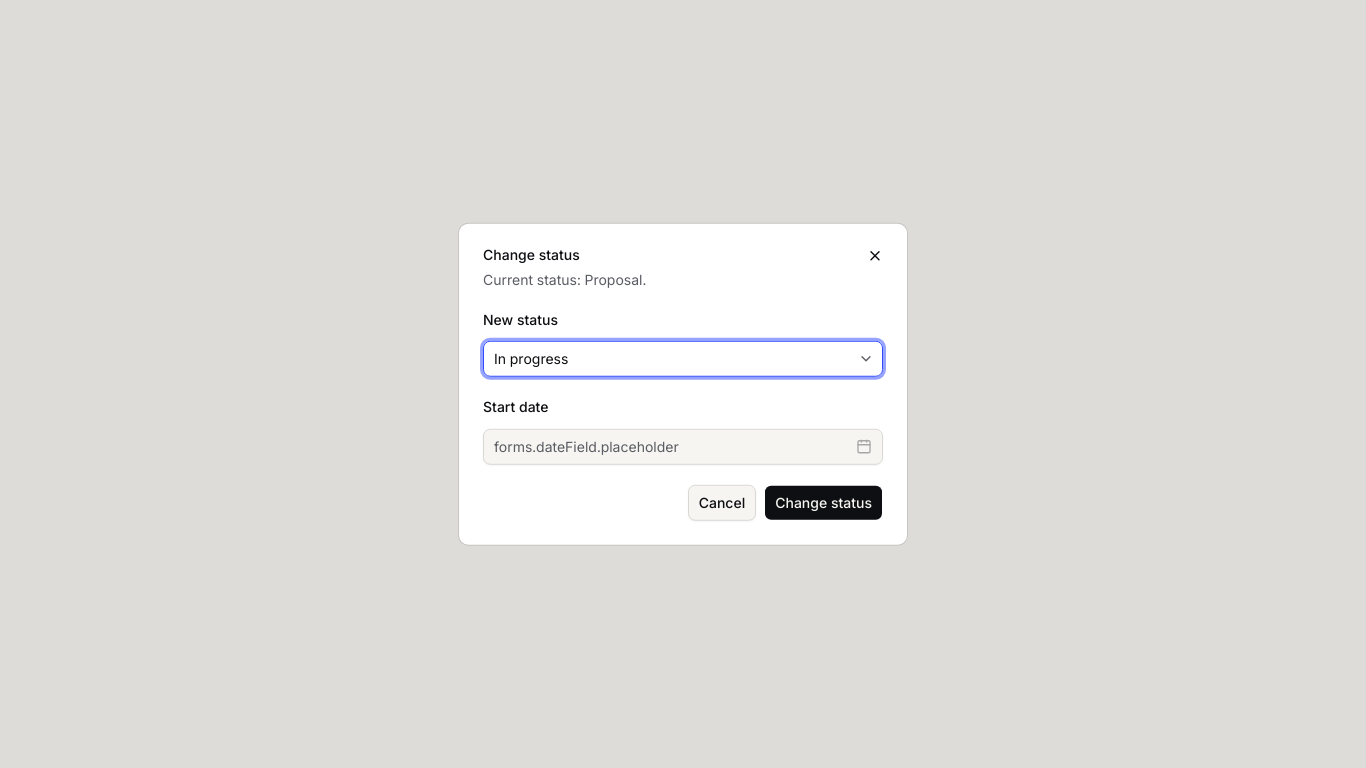
Test case: ProjectTransitionDialog (HU-08) › requires the start date to move to In progress (CA1)
// The first target of PROPUESTA is EN_CURSO, so the start date field is shown and required.
Click the button "Change status".
click(824, 502)  # box [764, 484, 883, 520]
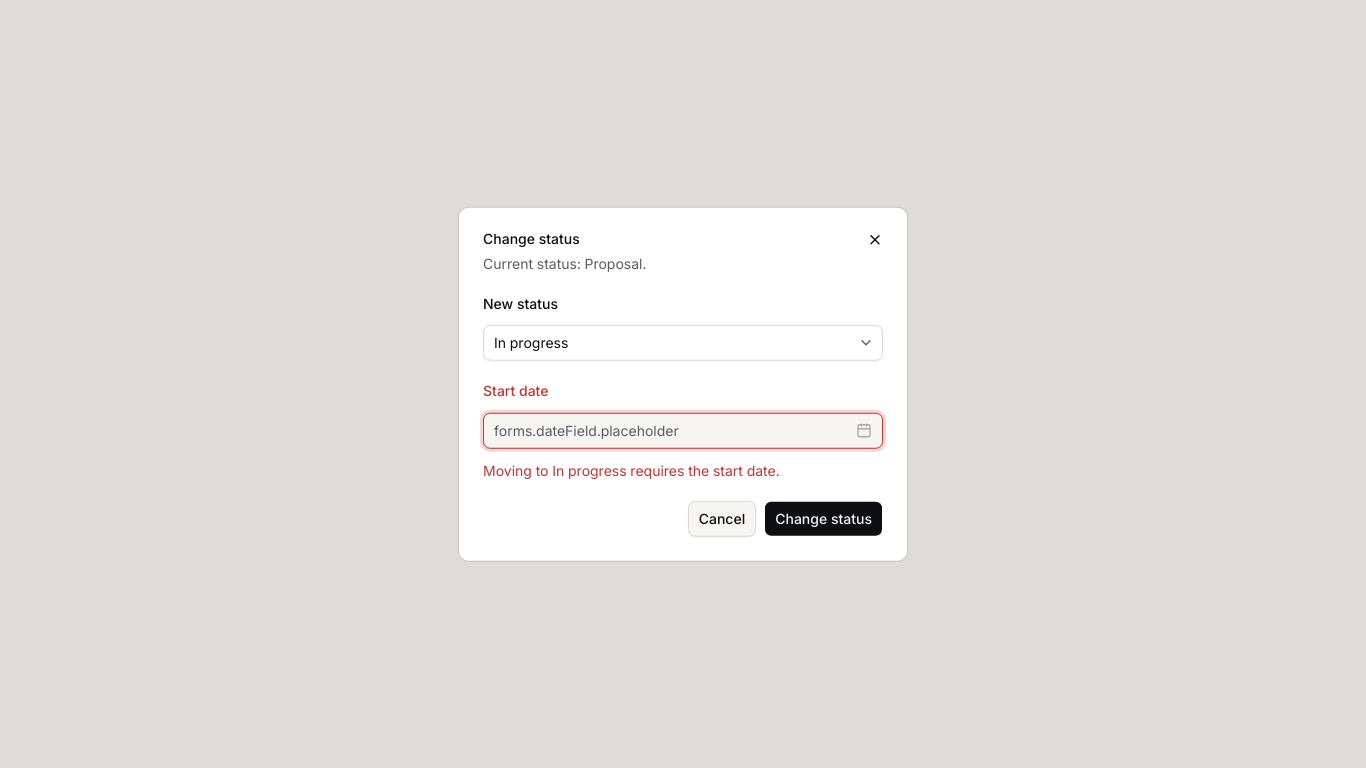
Expected: the text "Moving to In progress requires the start date." is shown, [483, 461, 780, 478]
